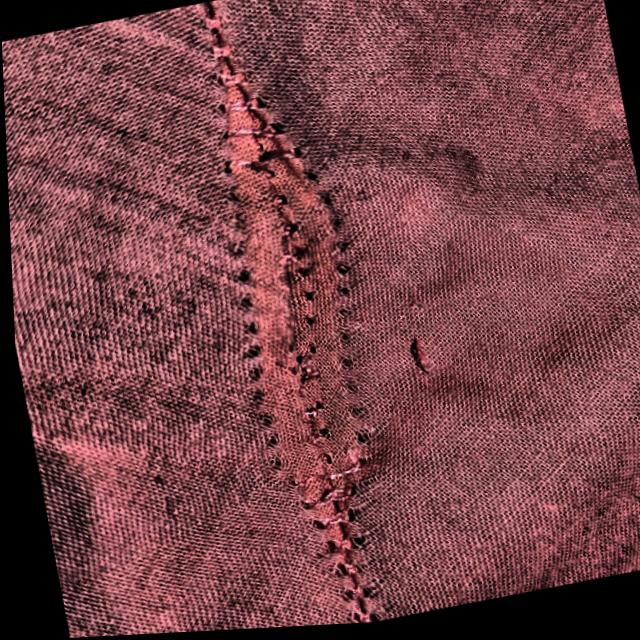seam: (127, 23, 459, 627)
